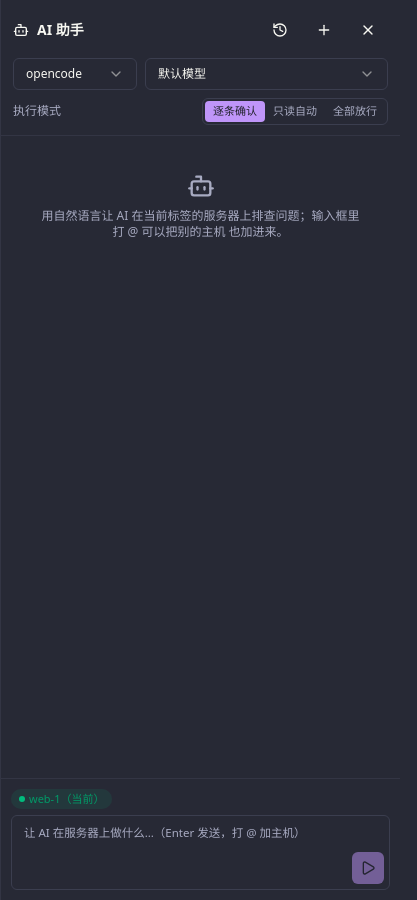
执行完的工具调用折叠 › 其中一条退出码非 0：这行用警示色并写明失败，仍默认收起
Click the button titled "新对话" at (324, 30), box 304,10 -> 344,50
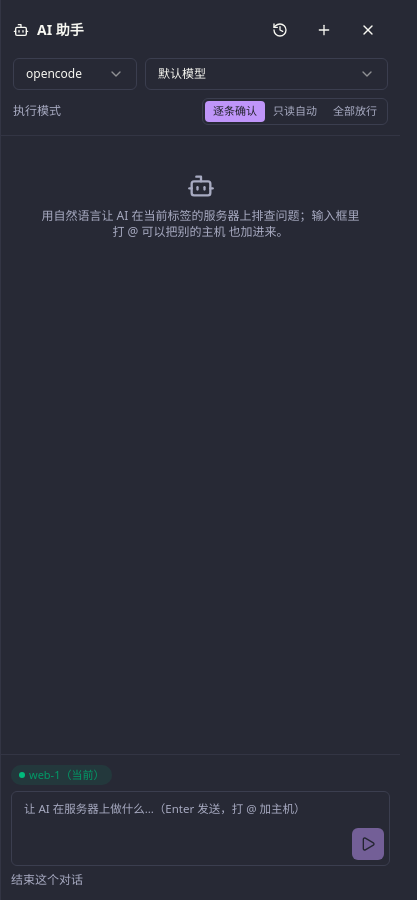
Type "看看" into the text box with placeholder "让 AI 在服务器上做什么…（Enter 发送，打 @ 加主机）" at (200, 828), box 11,791 -> 390,866
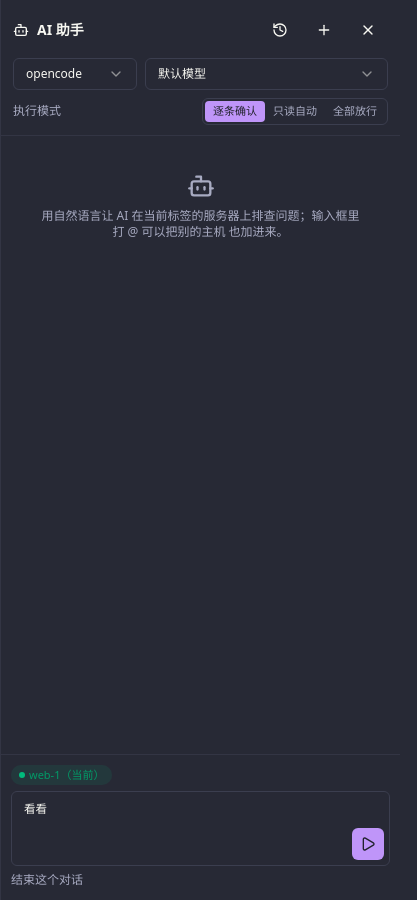
Click the button titled "发送" at (368, 844), box 352,828 -> 384,860
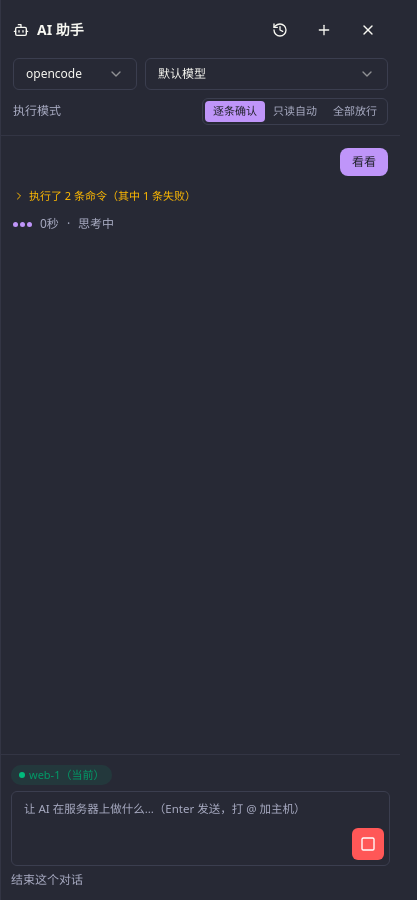
Now the element showing "执行了 2 条命令（其中 1 条失败）" is shown, box 13,188 -> 196,204
